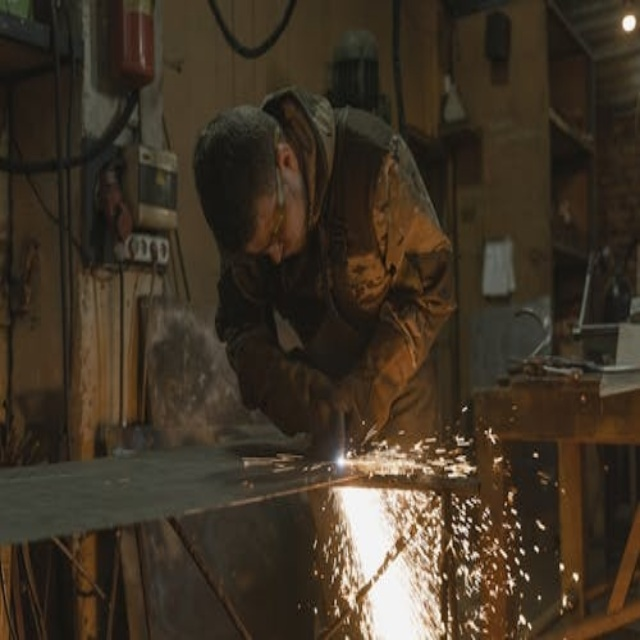Gafas: (261, 110, 294, 250)
Guantes: (311, 304, 438, 477), (221, 321, 334, 467)
